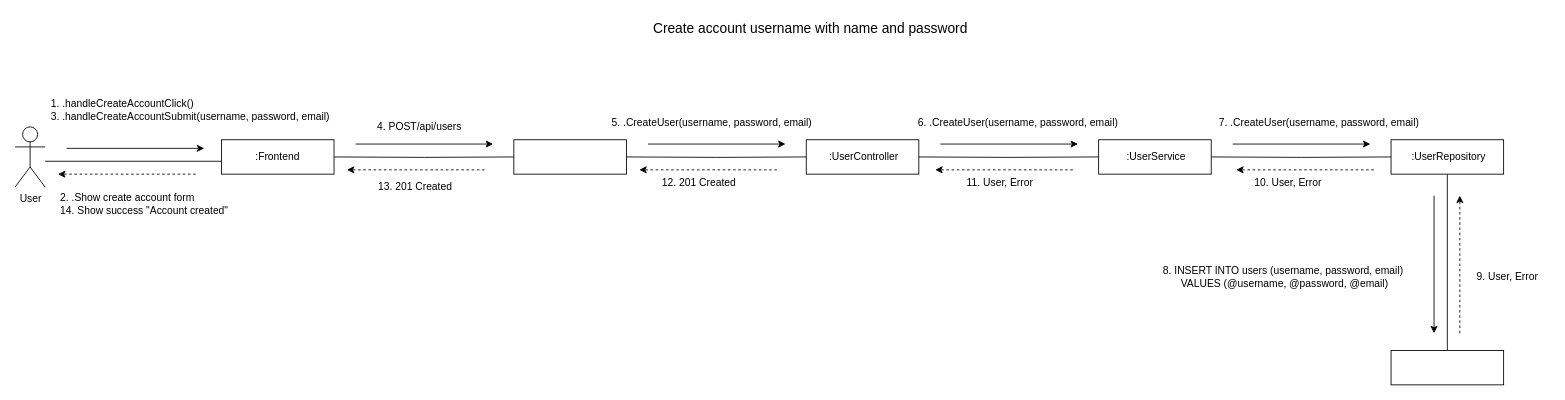
This 1565x400 diagram has some shape labels left out. Here are the shapes that lost their labels. From the top down, the centre of each, then its label:
At (x=569, y=156): ":Router".
At (x=1447, y=367): ":Database".
